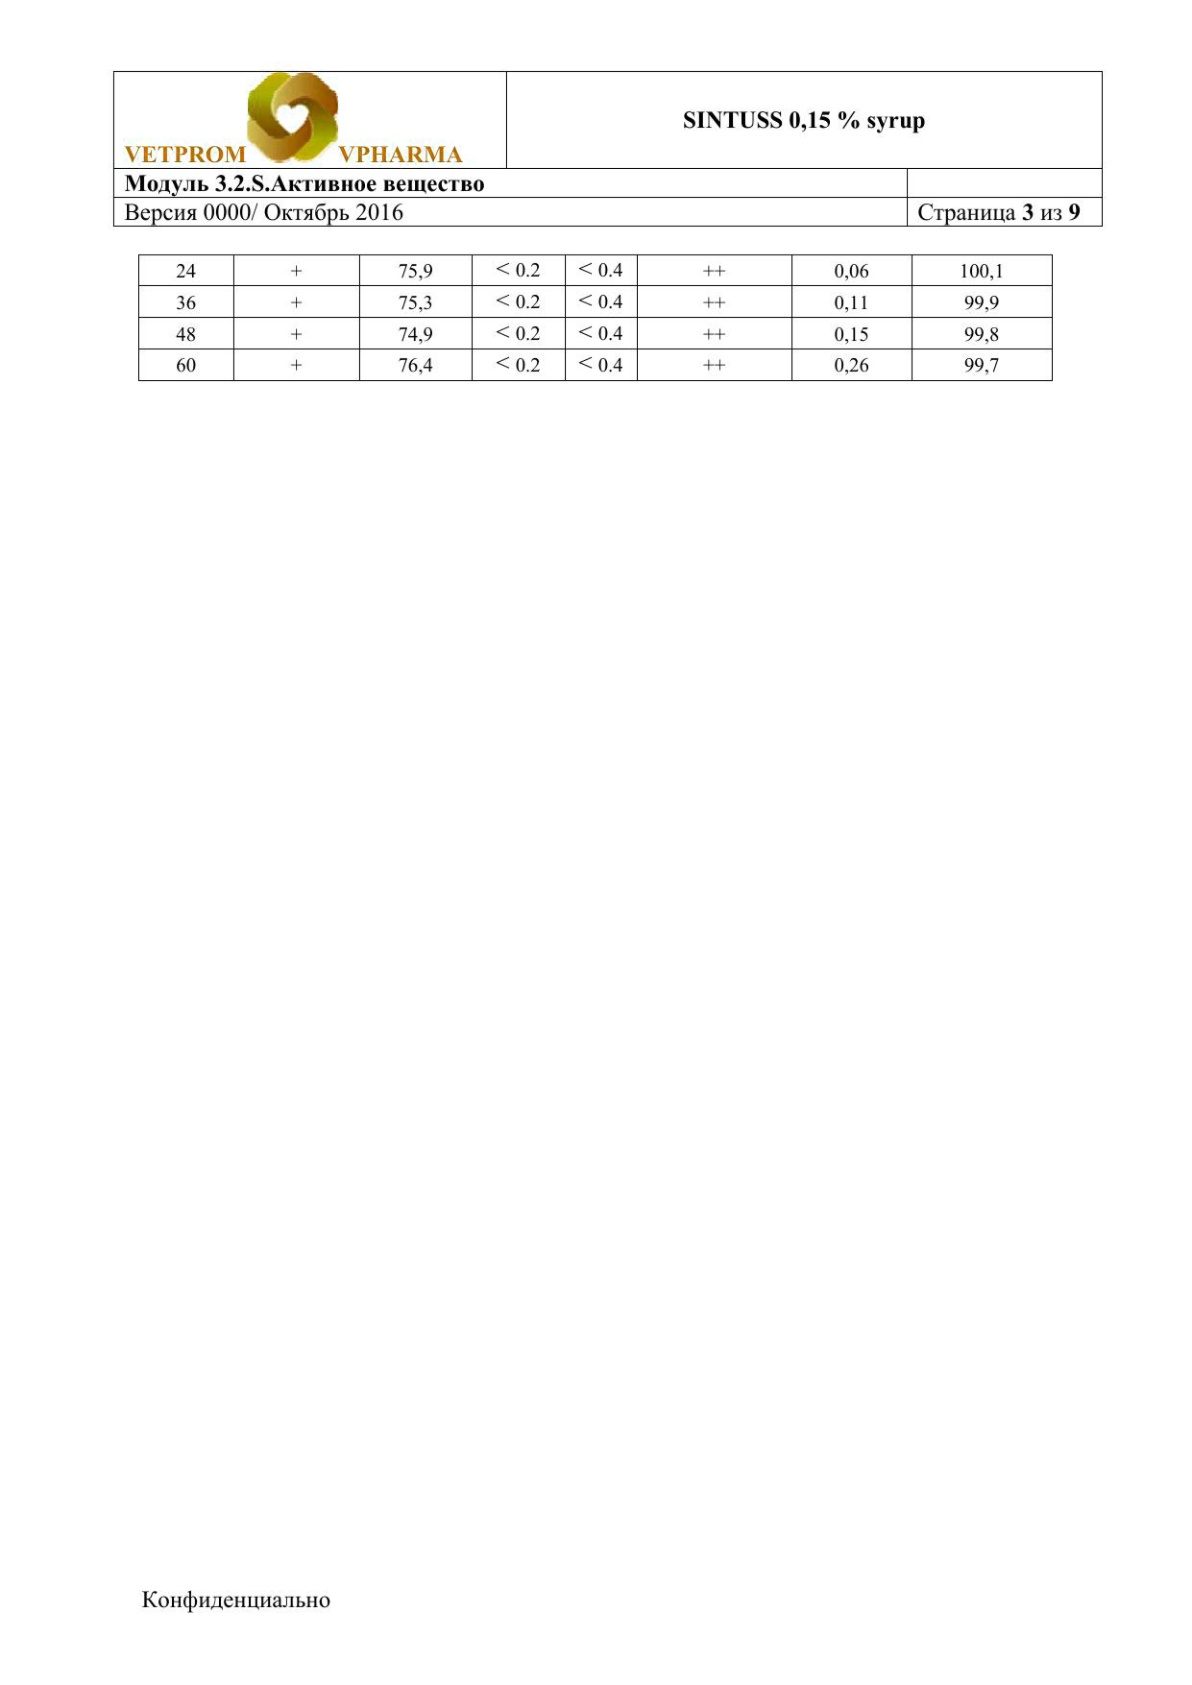full_lined: (138, 254, 1054, 382)
merged_cells: (114, 70, 1104, 227)
